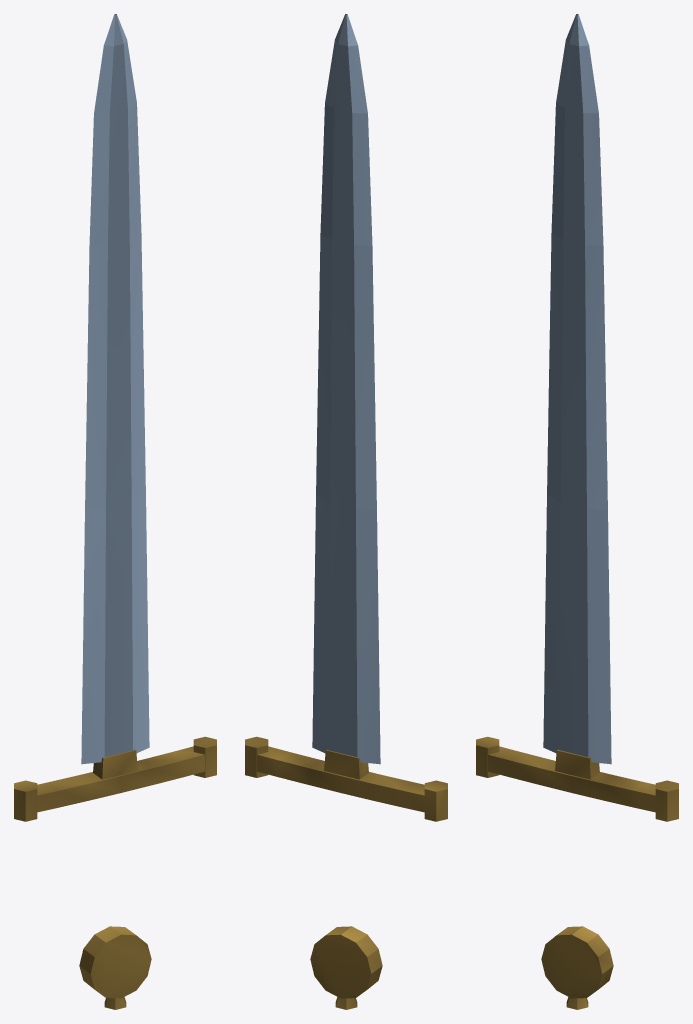
Rendered from sword_steel.glb.
3 renders of one model, left to right at view 1: azimuth 30°, elevation 25°; view 2: azimuth 150°, elevation 25°; view 3: azimuth 330°, elevation 25°, orthographic.
Visible parts, largest first — view 1: sword_steel; view 2: sword_steel; view 3: sword_steel.
Part boxes in pixels (x1=…): sword_steel: x1=14, y1=14, x2=216, y2=1009; sword_steel: x1=245, y1=14, x2=447, y2=1009; sword_steel: x1=476, y1=14, x2=678, y2=1009.
Bounding box in the file's own units: 0.226 × 1.05 × 0.0225.
